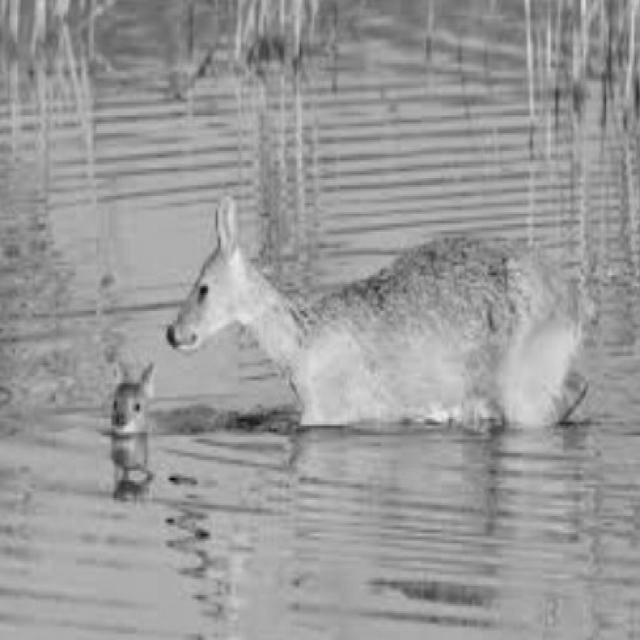Deer: (156, 197, 604, 433), (92, 344, 238, 481)
